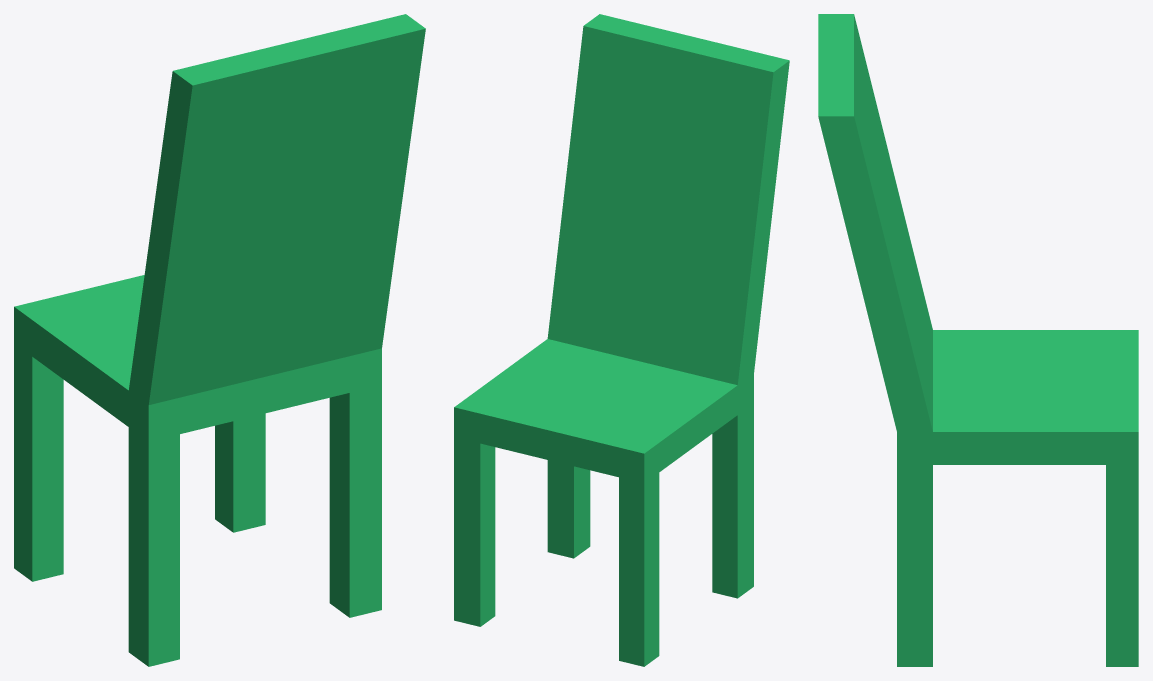
File: Chair.glb
3 views of the same model, side by side, from view 1: azimuth 30°, elevation 25°; view 2: azimuth 150°, elevation 25°; view 3: azimuth 270°, elevation 25° (orthographic). The views are drawn at different scales.
Parts seen in each view (by area): view 1: Cube; view 2: Cube; view 3: Cube.
Boxes of the visible parts, x1,y1,x2,y2 form: Cube: (14,14,425,666); Cube: (454,14,789,666); Cube: (818,14,1138,666).
Bounding box in the file's own units: 2 × 5.03 × 2.65.
1 material, 1 textured.
